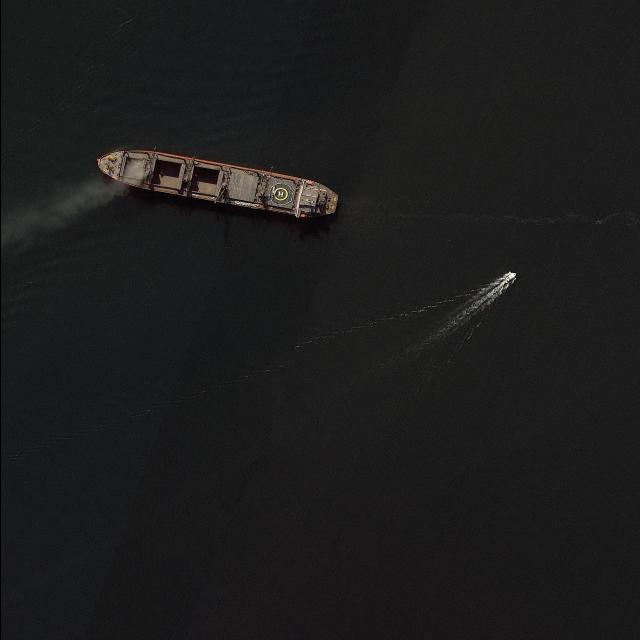ship: (94, 147, 340, 220), (502, 272, 516, 284)
